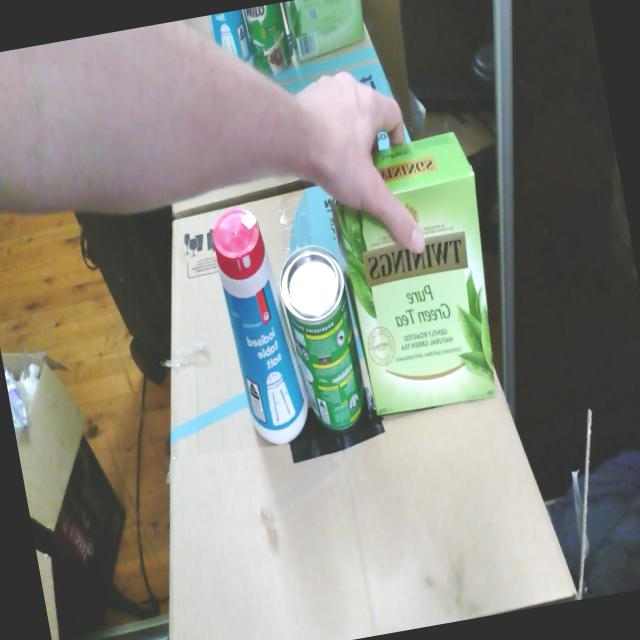nestle_milo_tin: (279, 245, 368, 431)
twinings_greentea_box: (330, 131, 495, 415)
woolworths_salt_bottle: (212, 208, 308, 444)
